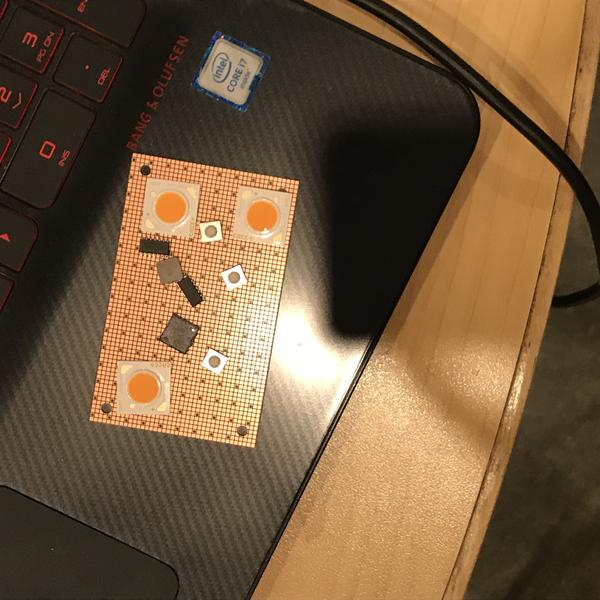board: (88, 151, 301, 449)
